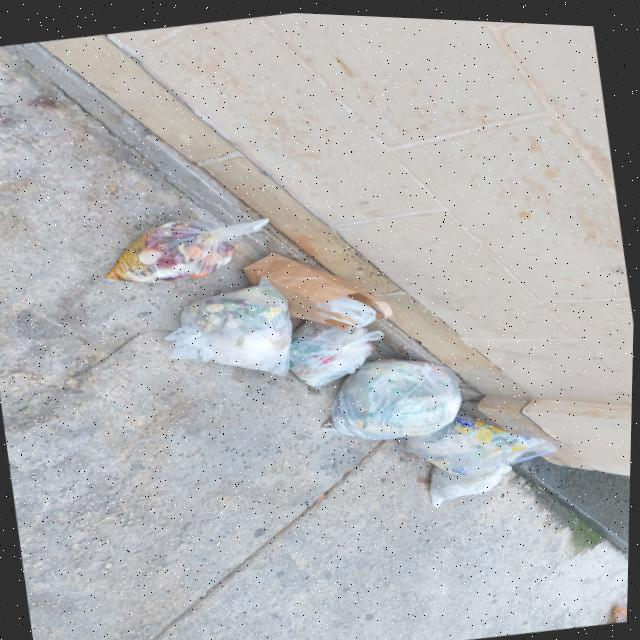Organic Waste -White Bag-: (324, 343, 471, 448), (397, 400, 531, 513), (170, 270, 293, 392), (96, 205, 240, 296), (282, 311, 381, 390)
